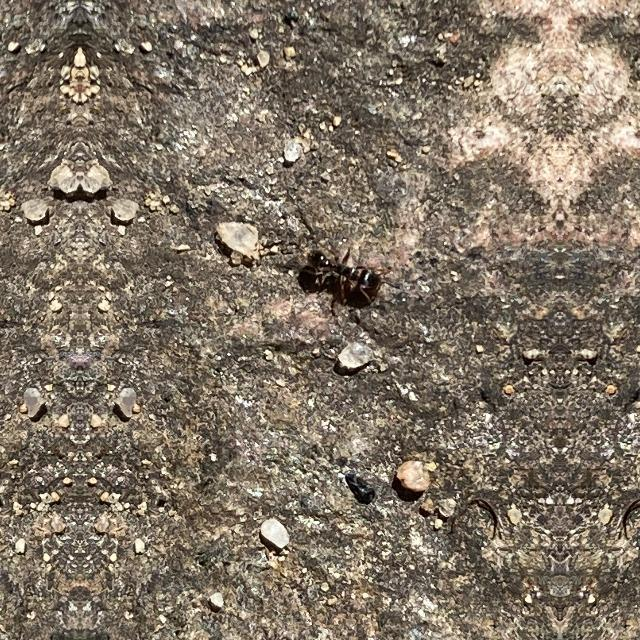Tetramorium: (304, 242, 396, 304)
